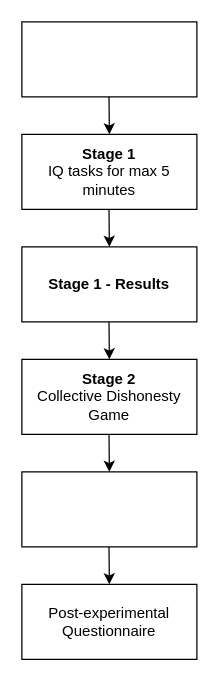
This 219x681 diagram has some shape labels left out. The centre of each missing label's shape, as x and y in pixels:
Instructions: pixel 109 59
Stage 2 - Results: pixel 109 509
